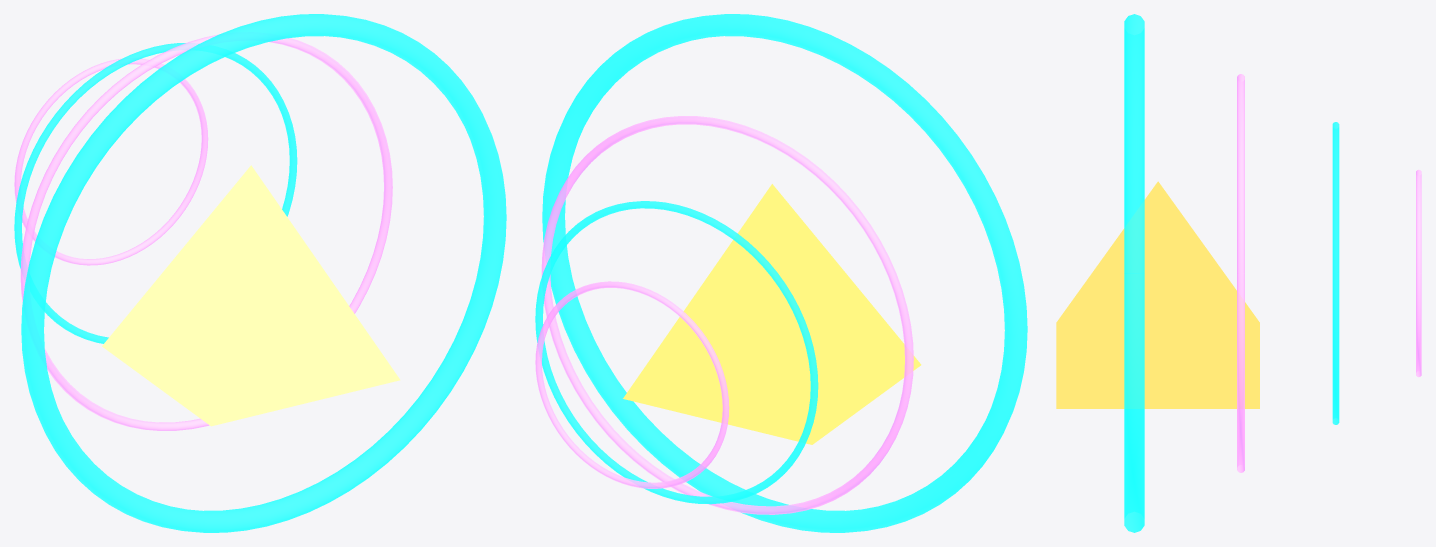
Rendered from focus-star-flight-v1.glb.
The picture shows the model from 3 angles, left to right: view 1: azimuth 30°, elevation 25°; view 2: azimuth 150°, elevation 25°; view 3: azimuth 270°, elevation 25°; orthographic projection. The views are drawn at different scales.
Parts seen in each view (by area): view 1: focus_star_memory_core, focus_star_outer_portal_shell, focus_flight_tunnel_ring_01, focus_flight_tunnel_ring_02, focus_flight_tunnel_ring_03; view 2: focus_star_memory_core, focus_star_outer_portal_shell, focus_flight_tunnel_ring_01, focus_flight_tunnel_ring_02, focus_flight_tunnel_ring_03; view 3: focus_star_memory_core, focus_star_outer_portal_shell, focus_flight_tunnel_ring_01, focus_flight_tunnel_ring_02, focus_flight_tunnel_ring_03.
Part boxes in pixels (box(x1,y1,x2,y2)): focus_star_memory_core: box(102, 165, 400, 426); focus_star_outer_portal_shell: box(21, 14, 506, 532); focus_flight_tunnel_ring_01: box(20, 34, 392, 430); focus_flight_tunnel_ring_02: box(14, 43, 297, 343); focus_flight_tunnel_ring_03: box(14, 58, 208, 265); focus_star_memory_core: box(623, 184, 921, 444); focus_star_outer_portal_shell: box(542, 14, 1027, 532); focus_flight_tunnel_ring_01: box(541, 116, 913, 514); focus_flight_tunnel_ring_02: box(535, 201, 818, 504); focus_flight_tunnel_ring_03: box(535, 281, 729, 488); focus_star_memory_core: box(1056, 181, 1259, 408); focus_star_outer_portal_shell: box(1124, 14, 1144, 532); focus_flight_tunnel_ring_01: box(1237, 74, 1244, 472); focus_flight_tunnel_ring_02: box(1332, 122, 1339, 424); focus_flight_tunnel_ring_03: box(1416, 169, 1421, 377).
Bounding box in the file's own units: 4.38 × 4.38 × 3.08.
